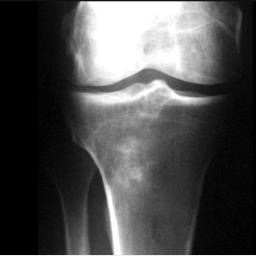cancer: (97, 133, 157, 201)
